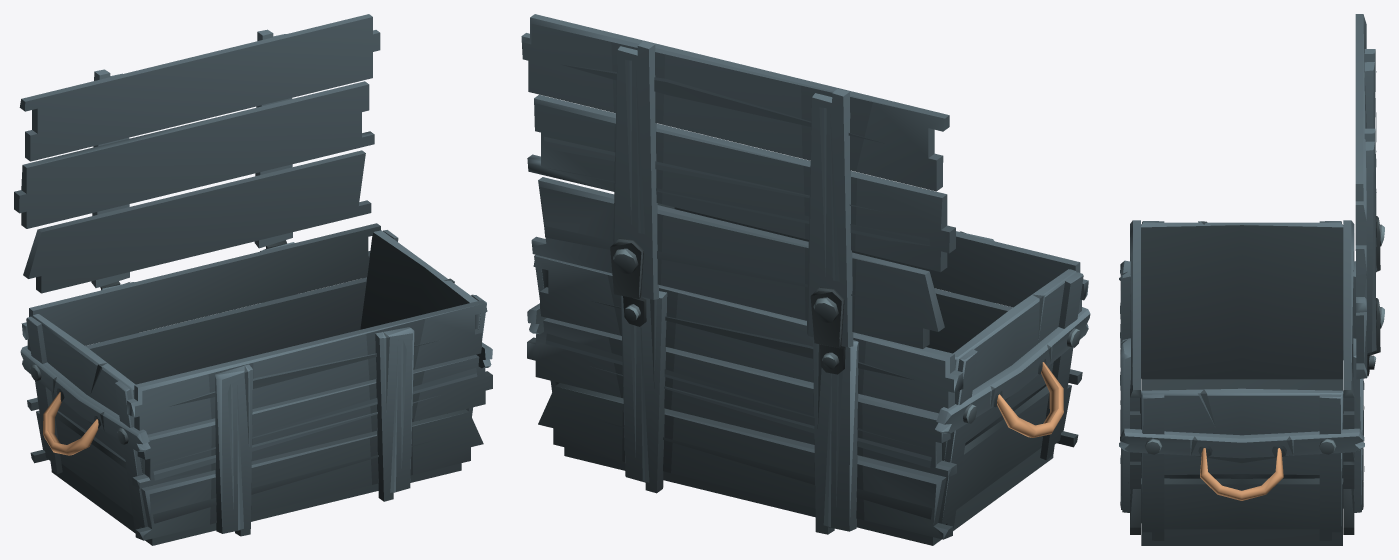
File: woodenboxvar.glb
3 renders of one model, left to right at view 1: azimuth 30°, elevation 25°; view 2: azimuth 150°, elevation 25°; view 3: azimuth 270°, elevation 25°, orthographic. The views are drawn at different scales.
Parts seen in each view (by area): view 1: woodenboxvar, Cube.023; view 2: woodenboxvar, Cube.023; view 3: woodenboxvar, Cube.023.
Boxes of the visible parts, <box> form: woodenboxvar: <box>20,223,492,545</box>; Cube.023: <box>14,14,380,293</box>; woodenboxvar: <box>527,203,1090,545</box>; Cube.023: <box>521,14,955,348</box>; woodenboxvar: <box>1119,220,1375,545</box>; Cube.023: <box>1355,14,1384,379</box>.
Bounding box in the file's own units: 2.28 × 2 × 1.28.
1 material, 1 textured.
